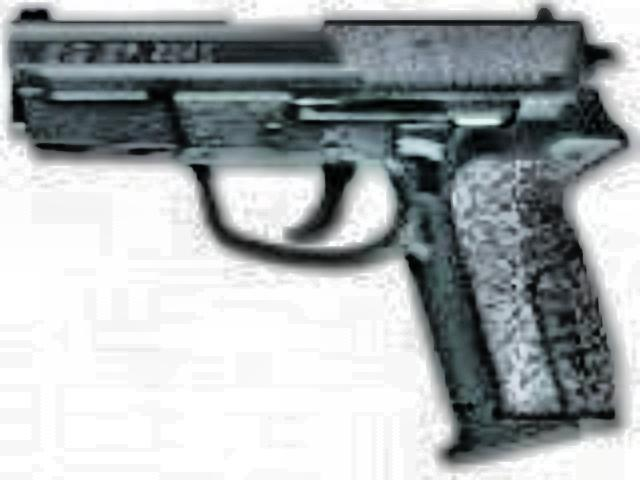pistol: (4, 0, 624, 460)
